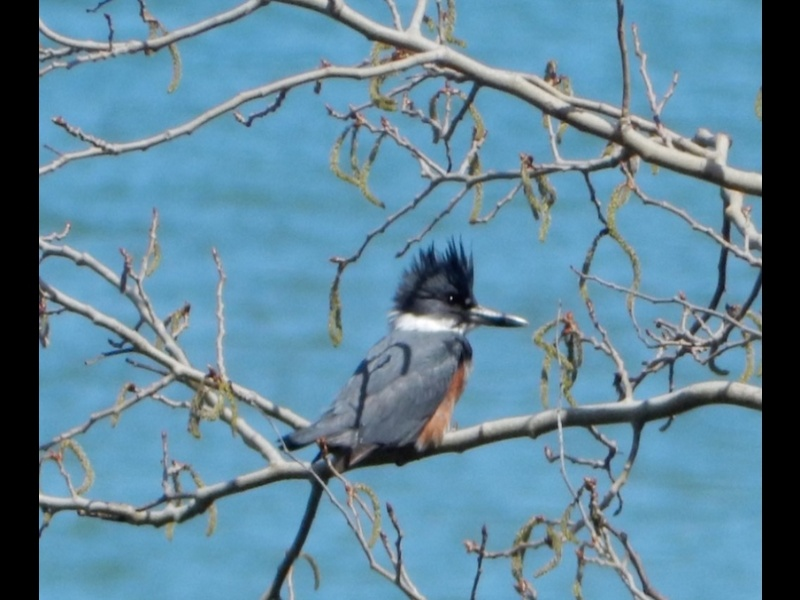kingfisher: (276, 239, 529, 474)
